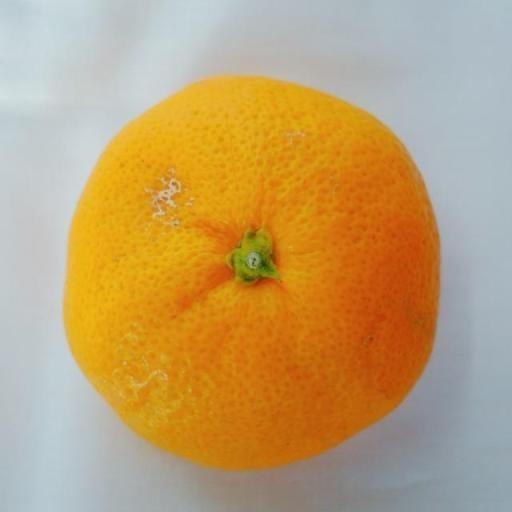fruit: (64, 77, 439, 468)
